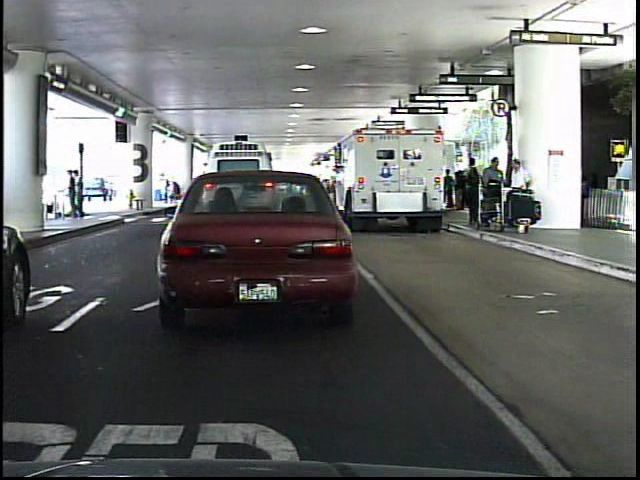person: (55, 166, 76, 223)
